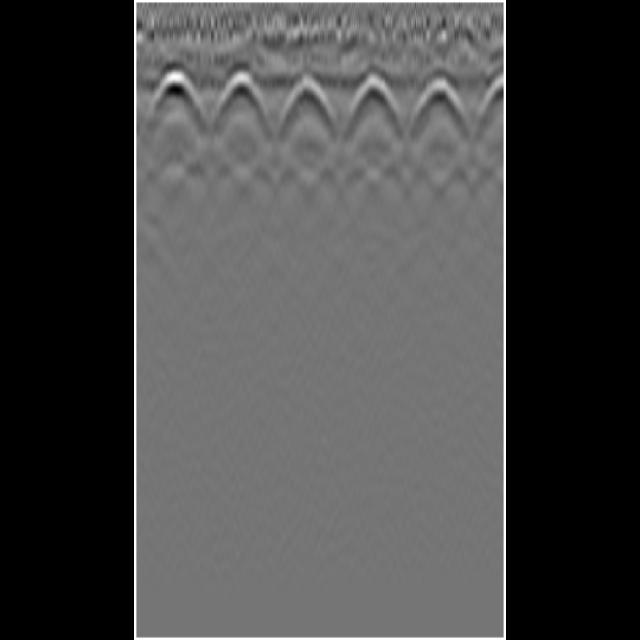hyperbola: (144, 65, 203, 128), (404, 72, 468, 130), (212, 65, 270, 123), (280, 70, 330, 124), (348, 70, 396, 120)
